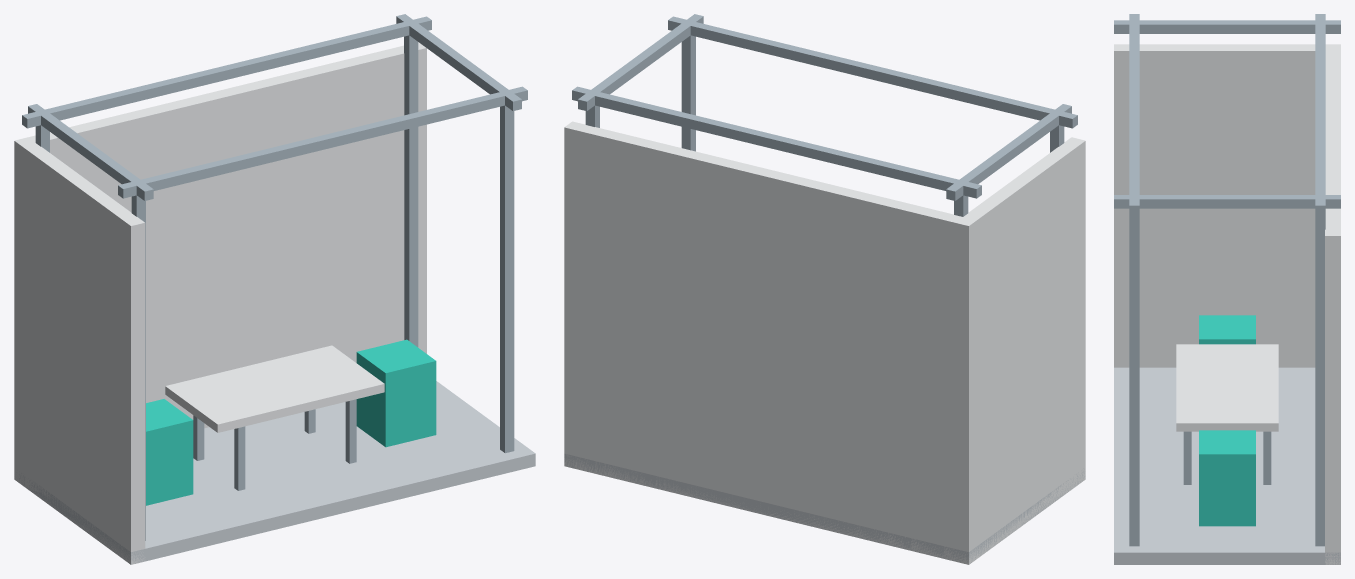
3 renders of one model, left to right at view 1: azimuth 30°, elevation 25°; view 2: azimuth 150°, elevation 25°; view 3: azimuth 270°, elevation 25°, orthographic. The views are drawn at different scales.
Parts seen in each view (by area): view 1: Exhibition Booth Concept; view 2: Exhibition Booth Concept; view 3: Exhibition Booth Concept.
Boxes of the visible parts, <box> form: Exhibition Booth Concept: <box>14,14,535,564</box>; Exhibition Booth Concept: <box>564,14,1085,564</box>; Exhibition Booth Concept: <box>1114,14,1340,564</box>.
Size of the model in its own units: 4 by 3.49 by 2.
